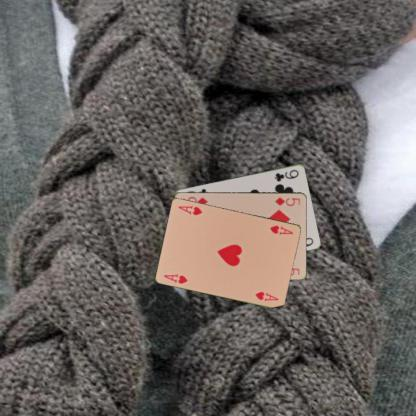5d: (272, 195, 301, 207)
9c: (272, 167, 300, 183)
Ah: (161, 271, 190, 285), (268, 222, 295, 236)
